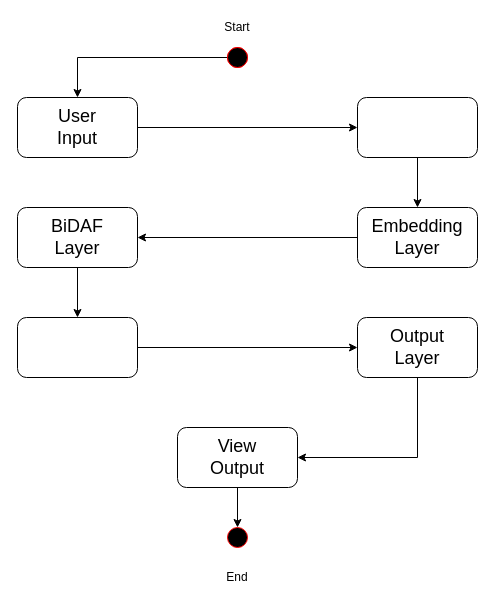
Some shapes in this 495 by 604 pixel diagram are drawn without their labels. Each missing label, with the centre of its shape:
"Modelling Layer" belongs at pixel 77 347.
"Tokenization" belongs at pixel 417 127.
